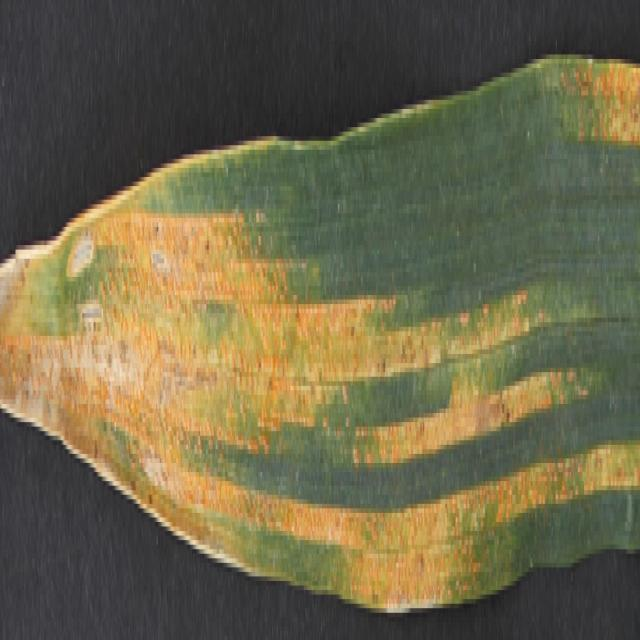leaf rust: (2, 190, 576, 586), (563, 55, 640, 182)
